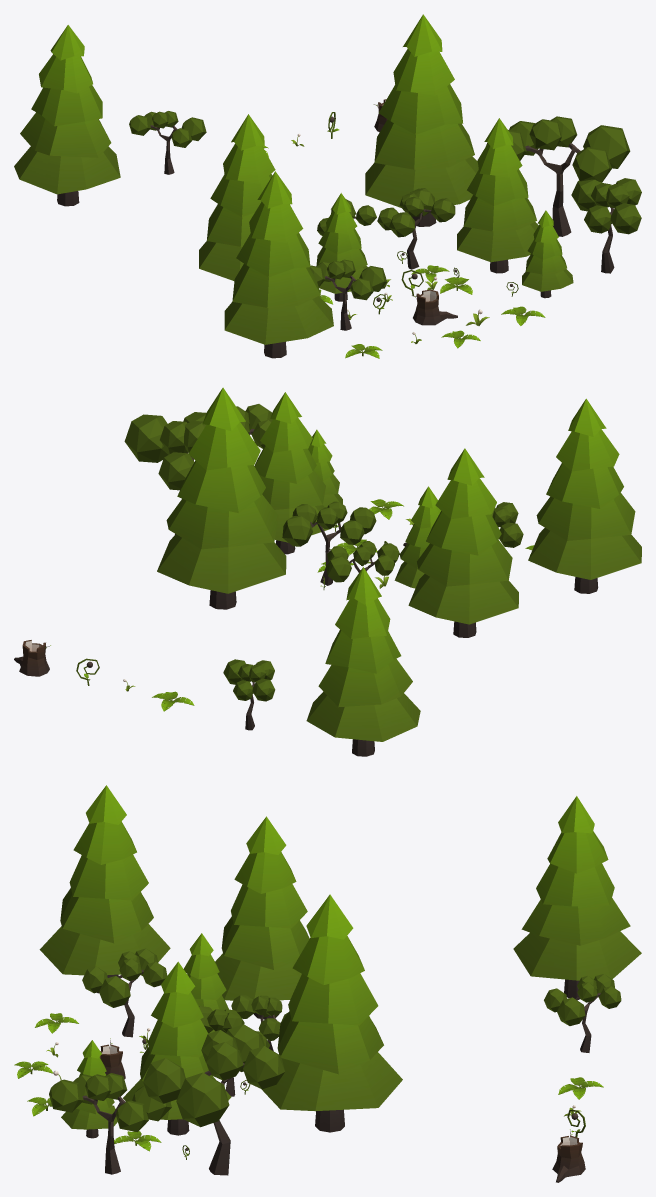
Rendered from forest.fbx.
The picture shows the model from 3 angles, top to bottom: view 1: azimuth 30°, elevation 25°; view 2: azimuth 150°, elevation 25°; view 3: azimuth 270°, elevation 25°; orthographic projection. The views are drawn at different scales.
Visible parts, largest first — view 1: tree_a.002, tree_a.001, tree_a.007, tree_a.004, tree_a.006, tree_b.002, tree_b.001, tree_a.005, tree_a.003, tree_b.004, tree_b.005, tree_b.006 (+2 smaller); view 2: tree_a.002, tree_a.001, tree_a.006, tree_a.007, tree_a.004, tree_b.002, tree_b.004, tree_a.005, tree_b.006, tree_b.003, tree_a.003, tree_b.005 (+2 smaller); view 3: tree_a.002, tree_a.007, tree_a.001, tree_a.006, tree_b.002, tree_a.004, tree_b.001, tree_b.005, tree_b.006, tree_a.005, tree_a.003, tree_b.003 (+3 smaller).
Part boxes in pixels (x1=…): tree_a.002: x1=365, y1=14, x2=478, y2=226; tree_a.001: x1=224, y1=171, x2=333, y2=358; tree_a.007: x1=14, y1=25, x2=120, y2=206; tree_a.004: x1=457, y1=118, x2=538, y2=273; tree_a.006: x1=199, y1=114, x2=275, y2=280; tree_b.002: x1=486, y1=116, x2=630, y2=236; tree_b.001: x1=571, y1=178, x2=641, y2=273; tree_a.005: x1=316, y1=193, x2=367, y2=301; tree_a.003: x1=522, y1=210, x2=573, y2=298; tree_b.004: x1=377, y1=188, x2=455, y2=269; tree_b.005: x1=309, y1=259, x2=387, y2=330; tree_b.006: x1=129, y1=111, x2=206, y2=174; tree_a.002: x1=157, y1=387, x2=286, y2=609; tree_a.001: x1=528, y1=398, x2=641, y2=593; tree_a.006: x1=408, y1=448, x2=518, y2=637; tree_a.007: x1=306, y1=567, x2=420, y2=756; tree_a.004: x1=254, y1=392, x2=331, y2=554; tree_b.002: x1=124, y1=412, x2=206, y2=534; tree_b.004: x1=282, y1=501, x2=376, y2=585; tree_a.005: x1=394, y1=486, x2=440, y2=588; tree_b.006: x1=223, y1=659, x2=275, y2=730; tree_b.003: x1=326, y1=541, x2=399, y2=582; tree_a.003: x1=308, y1=429, x2=342, y2=507; tree_b.005: x1=491, y1=502, x2=523, y2=547; tree_a.002: x1=261, y1=894, x2=402, y2=1132; tree_a.007: x1=513, y1=796, x2=641, y2=998; tree_a.001: x1=39, y1=785, x2=170, y2=993; tree_a.006: x1=215, y1=816, x2=309, y2=1019; tree_b.002: x1=143, y1=1024, x2=284, y2=1175; tree_a.004: x1=123, y1=961, x2=231, y2=1135; tree_b.001: x1=49, y1=1073, x2=171, y2=1174; tree_b.005: x1=82, y1=948, x2=167, y2=1037; tree_b.006: x1=544, y1=974, x2=621, y2=1052; tree_a.005: x1=183, y1=933, x2=228, y2=1033; tree_a.003: x1=61, y1=1040, x2=117, y2=1138; tree_b.003: x1=231, y1=995, x2=288, y2=1050.
Size of the model in its own units: 427 by 193 by 466.
Materials: 4 (4 with a texture image).
